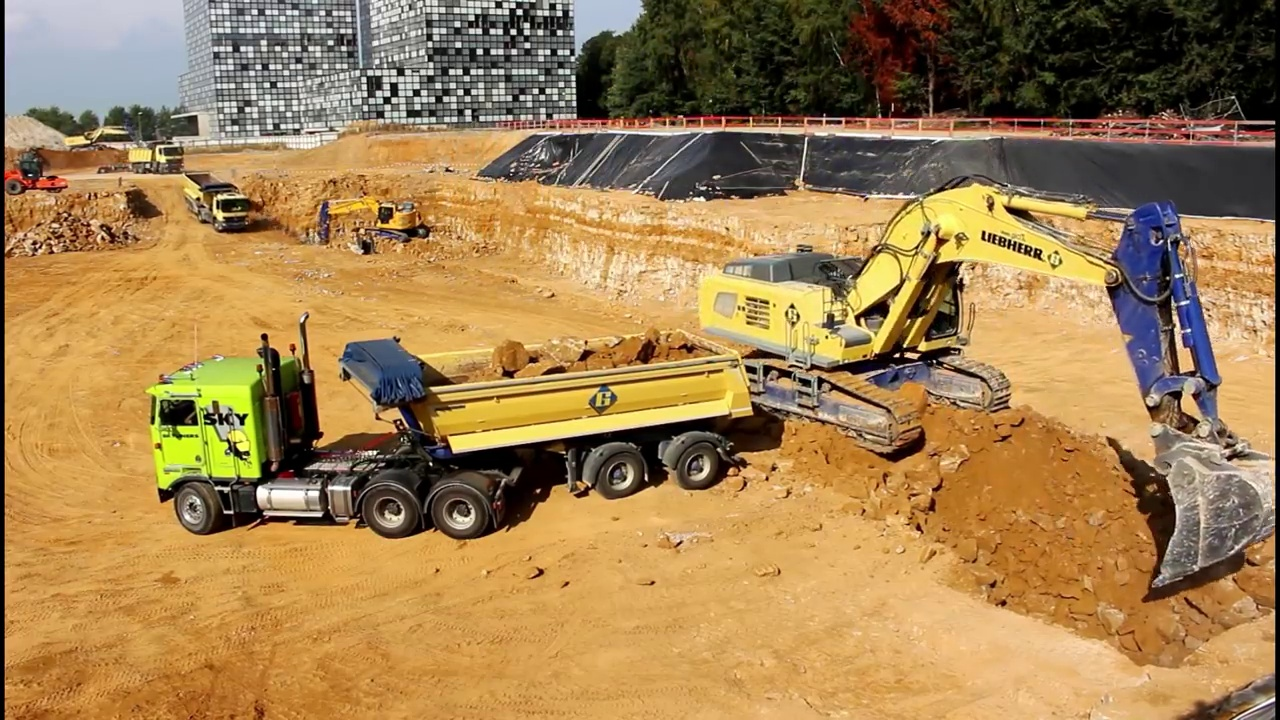compactor: (1, 154, 71, 199)
excavator: (667, 167, 1280, 598), (298, 195, 437, 255), (63, 120, 146, 158)
truck: (139, 309, 760, 543), (180, 168, 257, 236), (126, 138, 190, 178)
